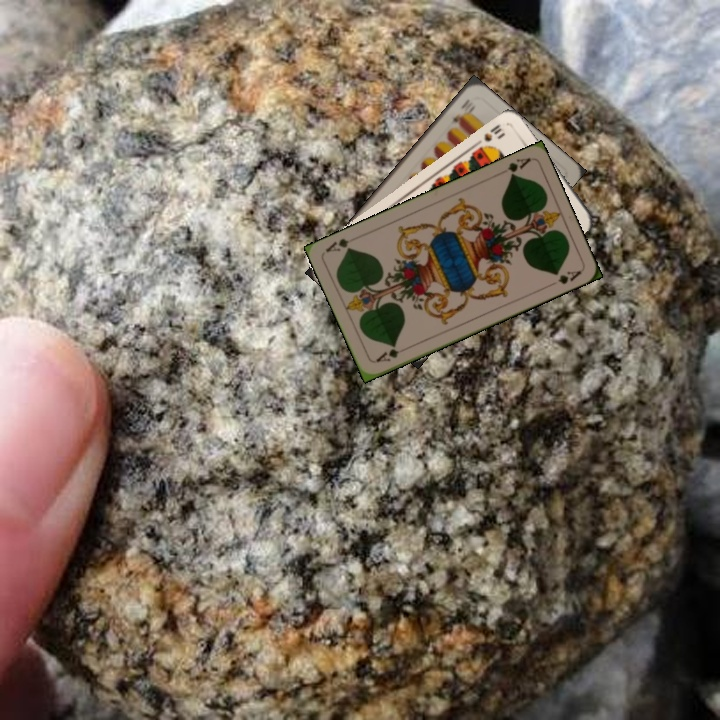E10: (449, 95, 476, 125)
GA: (372, 342, 410, 365), (504, 154, 533, 180)
S10: (472, 121, 504, 153)
